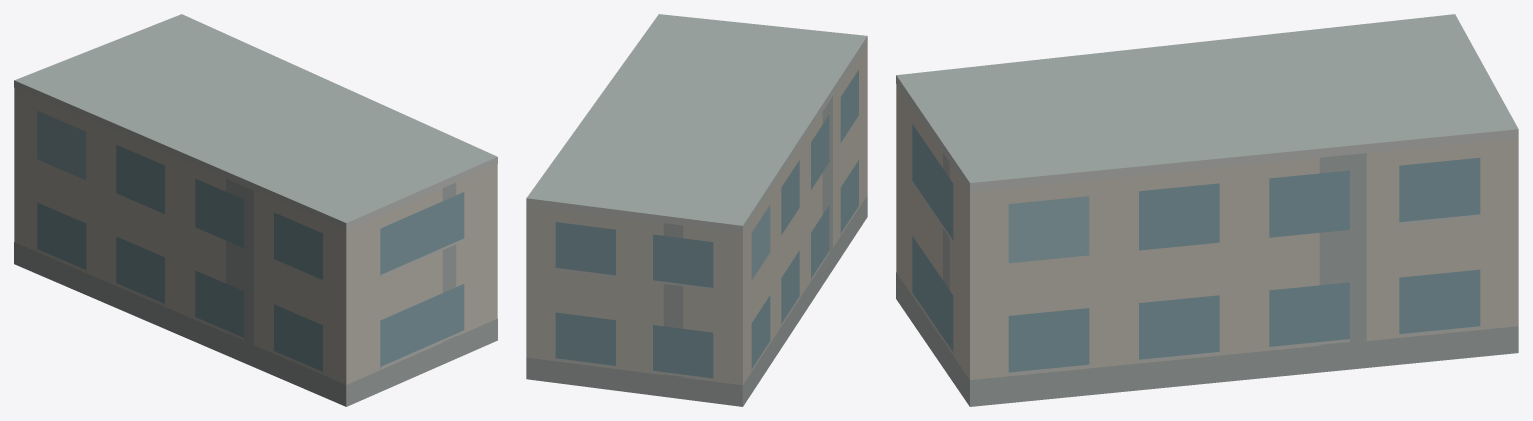
The model's file is survey-upis-32899845.glb.
3 views of the same model, side by side, from view 1: azimuth 30°, elevation 25°; view 2: azimuth 150°, elevation 25°; view 3: azimuth 270°, elevation 25° (orthographic). The views are drawn at different scales.
Visible parts, largest first — view 1: survey-upis-32899845.tmp; view 2: survey-upis-32899845.tmp; view 3: survey-upis-32899845.tmp.
Part boxes in pixels (left/top/right/bottom): survey-upis-32899845.tmp: left=14, top=14, right=497, bottom=406; survey-upis-32899845.tmp: left=526, top=14, right=867, bottom=406; survey-upis-32899845.tmp: left=896, top=14, right=1518, bottom=406.
Bounding box in the file's own units: 9.89 × 6.1 × 15.39.
